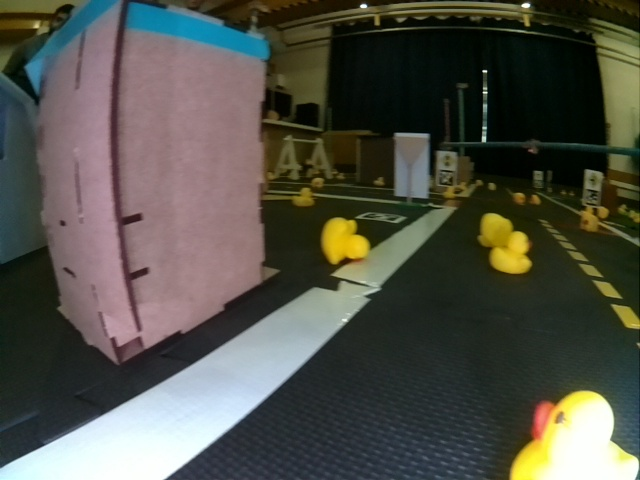Duckie: (510, 391, 638, 479), (322, 219, 369, 262), (493, 232, 525, 273), (479, 215, 510, 249), (294, 188, 312, 205), (581, 213, 597, 229), (374, 177, 384, 186), (532, 195, 540, 203)
QR code: (358, 213, 408, 223), (584, 190, 601, 205), (438, 173, 455, 186)
Signal sign: (440, 152, 456, 170)
